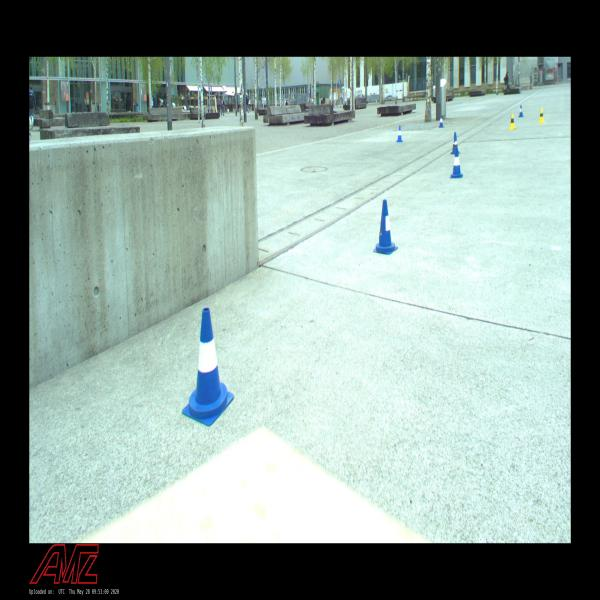blue_cone: (182, 306, 235, 425), (372, 199, 398, 256), (449, 148, 464, 178), (450, 132, 460, 154), (396, 126, 403, 142), (438, 114, 444, 128), (518, 105, 524, 117)
yellow_cone: (509, 113, 516, 130), (538, 108, 545, 124)
